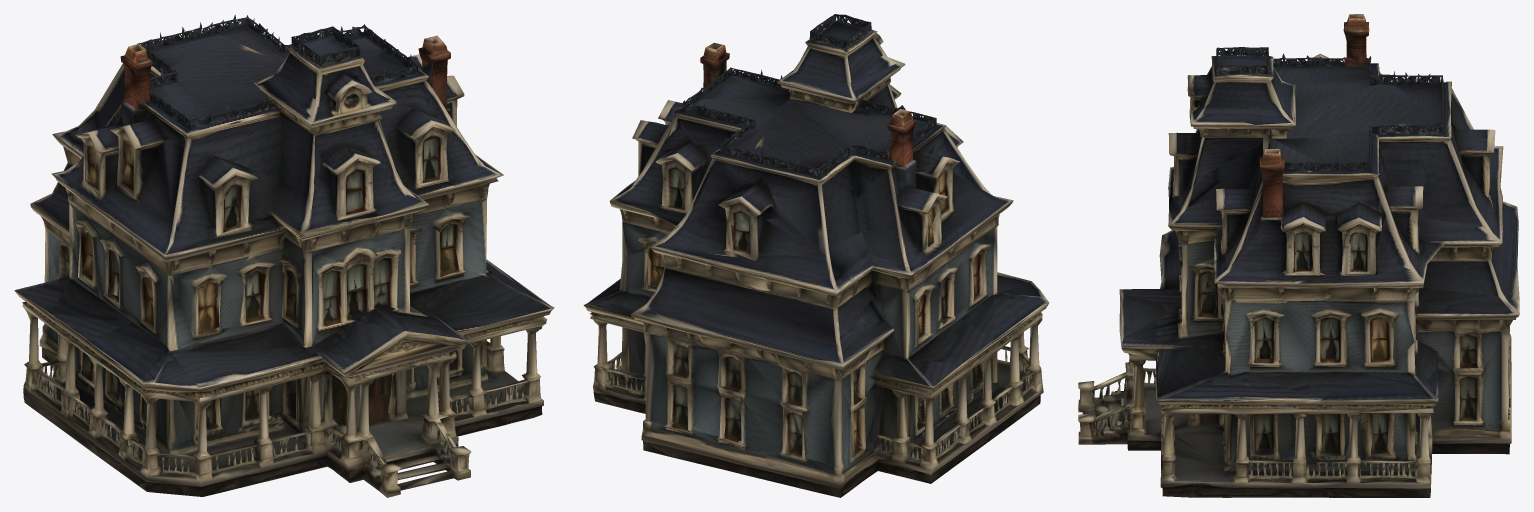
File: HitchcockMansion_LOD2.fbx
3 renders of one model, left to right at view 1: azimuth 30°, elevation 25°; view 2: azimuth 150°, elevation 25°; view 3: azimuth 270°, elevation 25°, orthographic. The views are drawn at different scales.
Visible parts, largest first — view 1: HitchcockMansion_LOD2; view 2: HitchcockMansion_LOD2; view 3: HitchcockMansion_LOD2.
Boxes of the visible parts, <box> form: HitchcockMansion_LOD2: <box>14,14,554,497</box>; HitchcockMansion_LOD2: <box>583,14,1049,497</box>; HitchcockMansion_LOD2: <box>1078,14,1519,497</box>.
Bounding box in the file's own units: 91.67 × 87.04 × 95.85.
1 material, 1 textured.
